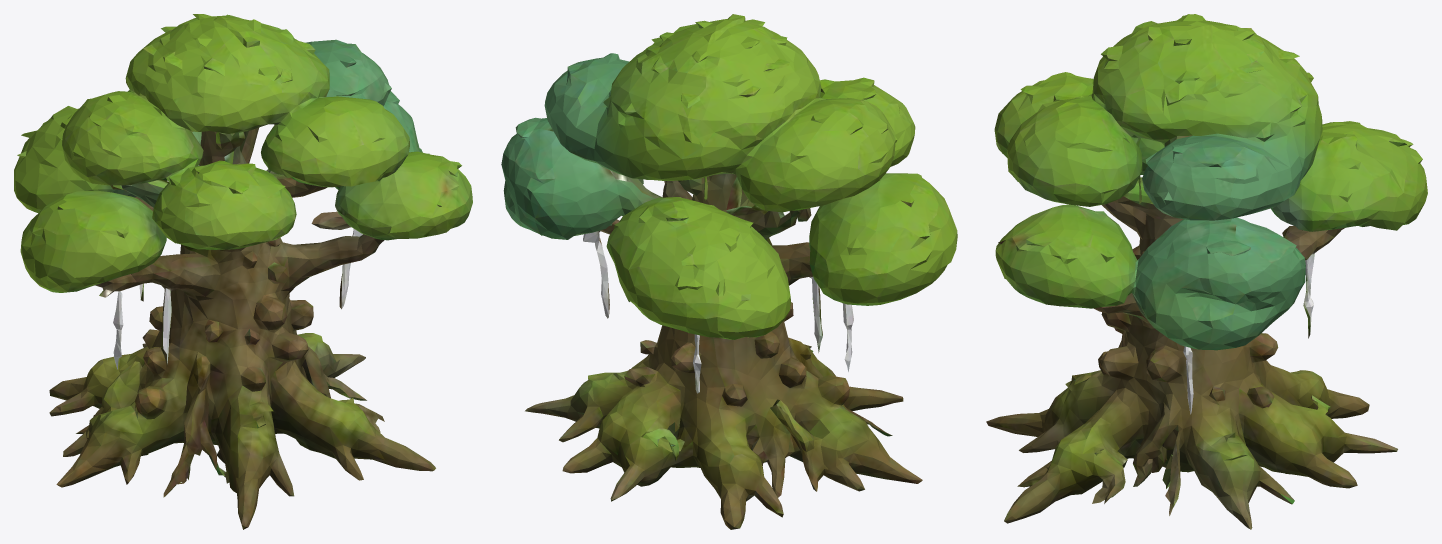
Rendered from jungle_tree.glb.
The picture shows the model from 3 angles, left to right: view 1: azimuth 30°, elevation 25°; view 2: azimuth 150°, elevation 25°; view 3: azimuth 270°, elevation 25°; orthographic projection. The views are drawn at different scales.
Visible parts, largest first — view 1: tmpblpdx6vt.ply; view 2: tmpblpdx6vt.ply; view 3: tmpblpdx6vt.ply.
Boxes of the visible parts, box(x1,y1,x2,y2) form: tmpblpdx6vt.ply: box(14, 14, 472, 529); tmpblpdx6vt.ply: box(501, 14, 957, 529); tmpblpdx6vt.ply: box(986, 14, 1427, 529).
Bounding box in the file's own units: 1.98 × 1.93 × 1.75.
Materials: 1 (1 with a texture image).
